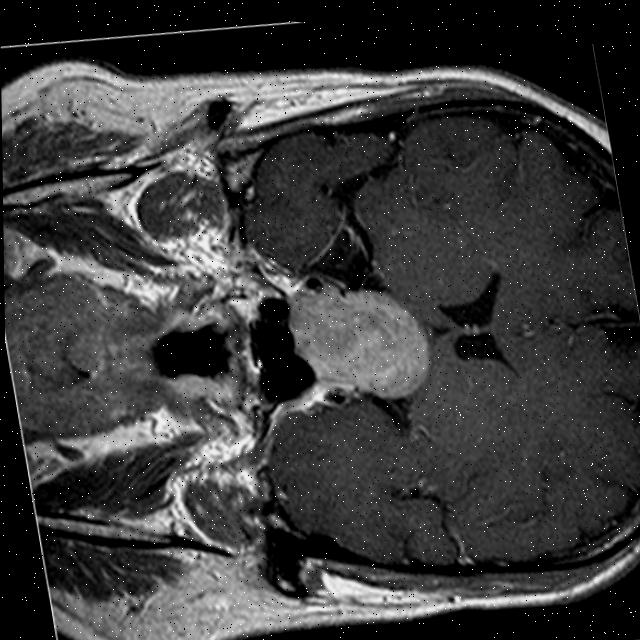Pituitary: (279, 267, 438, 419)
